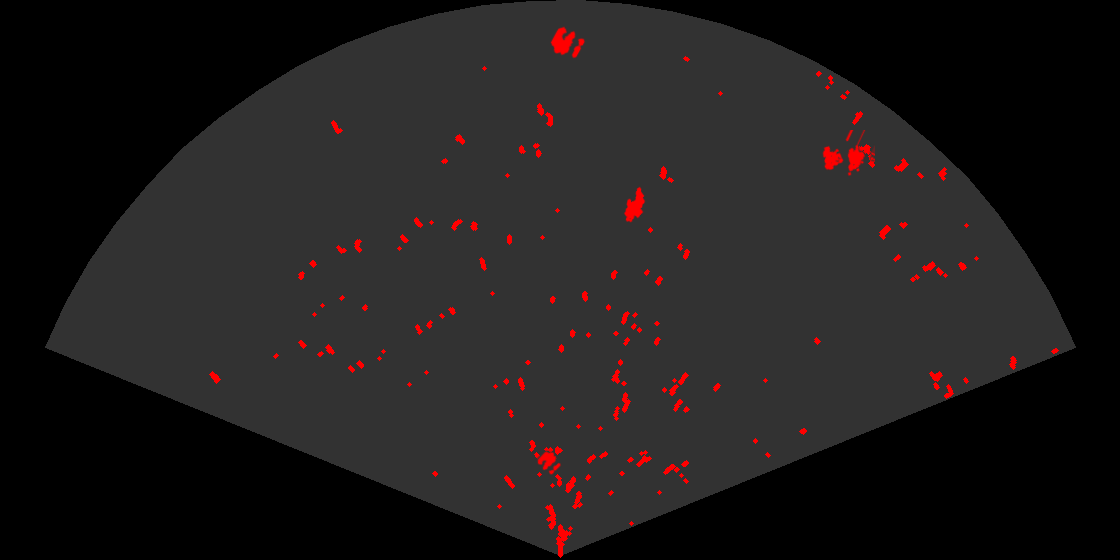AUV: (622, 185, 647, 224)
ball: (549, 25, 587, 60), (536, 450, 563, 476)
cage: (821, 130, 875, 178)
